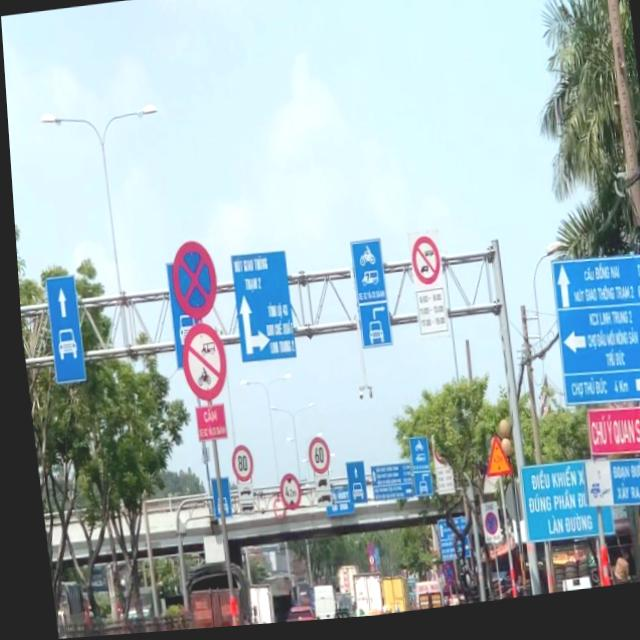Cam dung xe va do xe: (164, 241, 217, 325), (433, 566, 448, 592), (476, 518, 491, 543), (358, 547, 367, 560)
Chieu cao an toan: (475, 440, 506, 485)
Han che chieu cao: (271, 475, 296, 515)
Toc do toi da cho phep: (299, 440, 324, 480), (224, 447, 249, 486)
